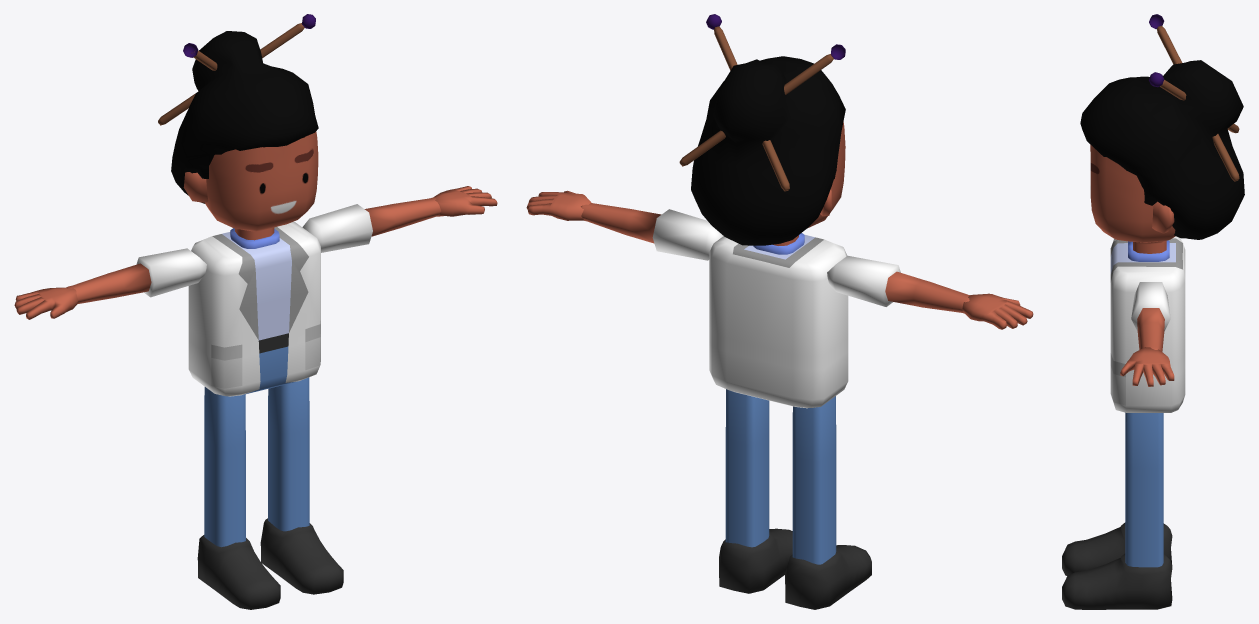
The model's file is NPC_Black02_BlackHair03.gltf.
The picture shows the model from 3 angles, left to right: view 1: azimuth 30°, elevation 25°; view 2: azimuth 150°, elevation 25°; view 3: azimuth 270°, elevation 25°; orthographic projection. The views are drawn at different scales.
Parts seen in each view (by area): view 1: NPC_Corpo_Black2_BlackHair.003; view 2: NPC_Corpo_Black2_BlackHair.003; view 3: NPC_Corpo_Black2_BlackHair.003.
Boxes of the visible parts, box(x1,y1,x2,y2) form: NPC_Corpo_Black2_BlackHair.003: box(14, 14, 497, 609); NPC_Corpo_Black2_BlackHair.003: box(526, 14, 1033, 609); NPC_Corpo_Black2_BlackHair.003: box(1062, 14, 1244, 609).
Size of the model in its own units: 2.31 by 2.5 by 0.7676.
Materials: 1 (1 with a texture image).
